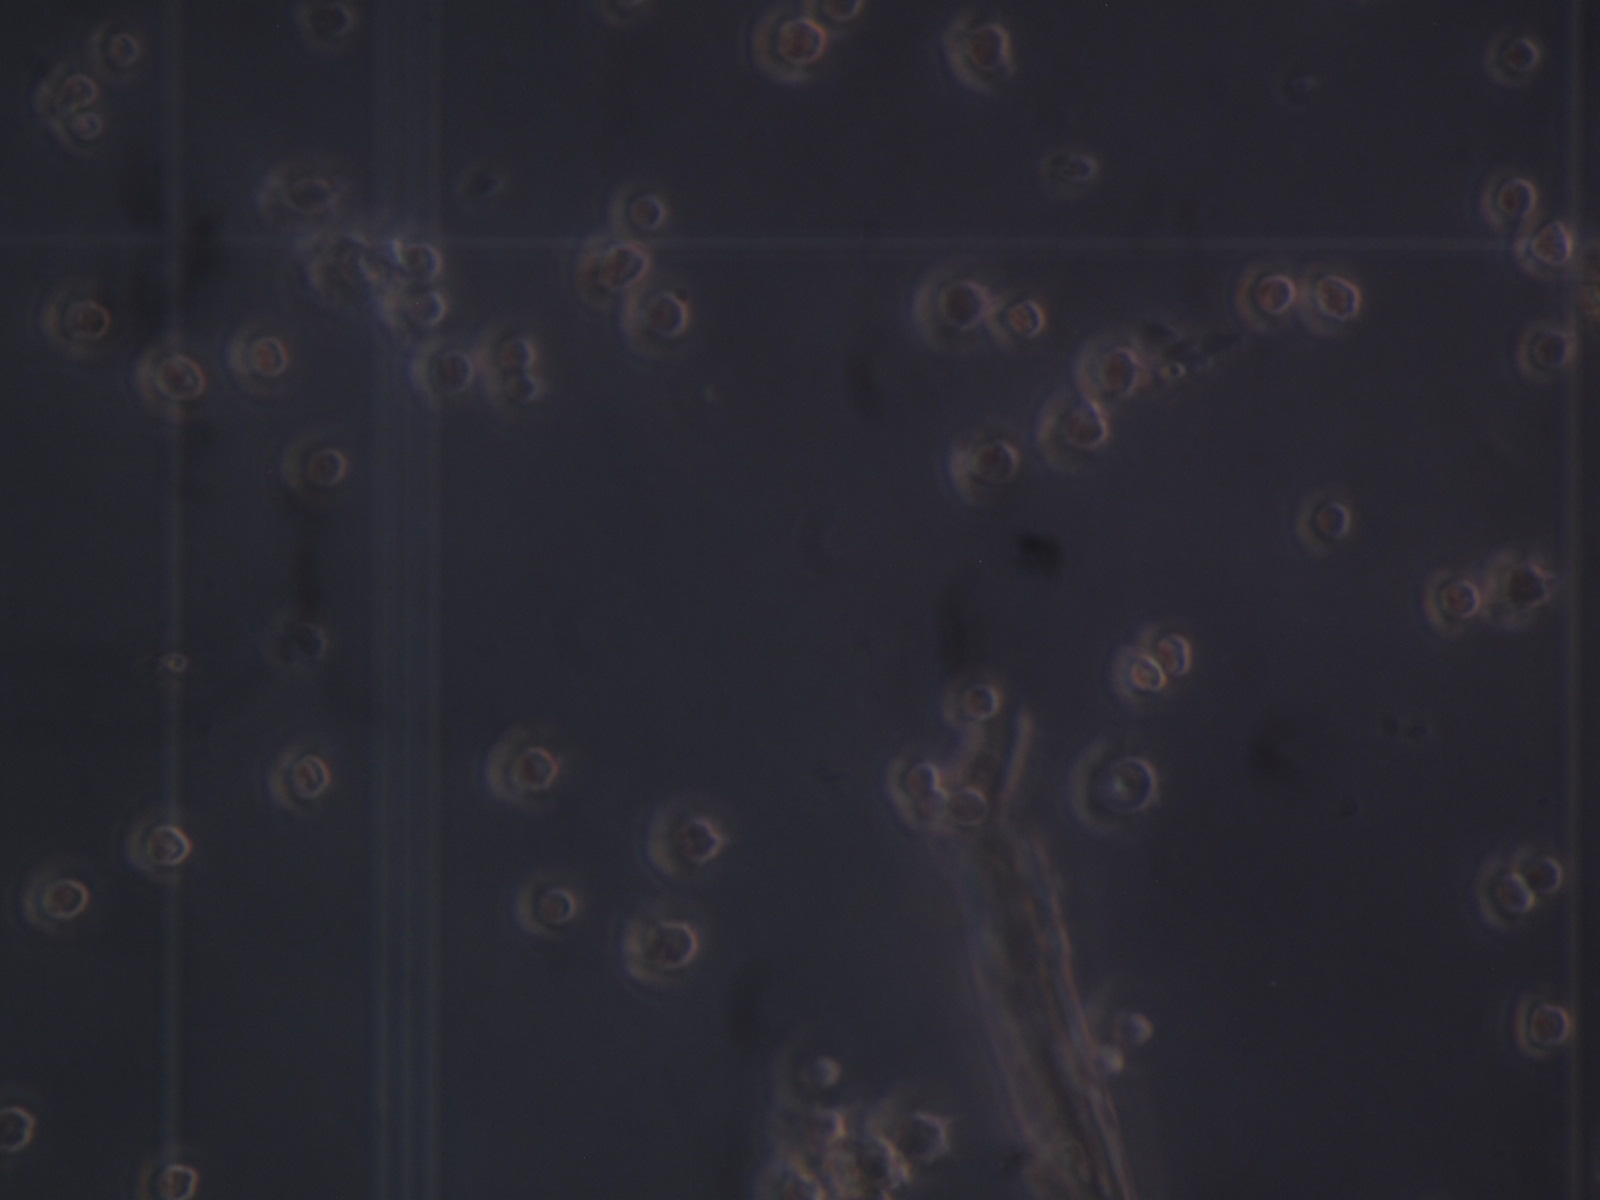hemo: (1072, 737, 1157, 839), (871, 1084, 956, 1170), (746, 6, 826, 87), (621, 904, 697, 989), (913, 266, 986, 350), (1038, 388, 1107, 475), (1078, 981, 1162, 1053), (648, 802, 722, 879), (484, 729, 558, 805), (576, 233, 648, 311), (1483, 548, 1548, 632), (136, 343, 207, 420), (951, 434, 1019, 511), (624, 290, 695, 362), (944, 13, 1008, 89), (258, 164, 339, 224), (1077, 333, 1144, 405), (1474, 856, 1537, 932), (1296, 265, 1359, 339), (123, 818, 191, 884), (1237, 263, 1298, 337), (39, 292, 111, 353), (1512, 992, 1574, 1060), (409, 337, 474, 401), (34, 55, 100, 118), (774, 1035, 843, 1094), (23, 876, 89, 937), (287, 429, 348, 495), (227, 326, 286, 395), (1477, 163, 1537, 228), (268, 747, 329, 813), (1511, 219, 1574, 281), (1294, 490, 1351, 558), (611, 176, 666, 245), (1425, 570, 1480, 637), (986, 287, 1044, 350), (939, 674, 1005, 729), (1111, 647, 1168, 708), (1516, 323, 1574, 382), (267, 615, 329, 671), (1136, 621, 1196, 678), (1485, 32, 1542, 88), (1511, 837, 1563, 897), (297, 1, 354, 57), (517, 886, 574, 939), (888, 747, 940, 805), (480, 324, 537, 374), (140, 1155, 202, 1200), (87, 32, 144, 79), (391, 286, 451, 330), (1042, 147, 1099, 194), (57, 111, 110, 156), (397, 239, 446, 287), (897, 790, 951, 832), (950, 784, 991, 837), (1, 1097, 39, 1155), (765, 1092, 813, 1136), (491, 371, 540, 413), (808, 1100, 849, 1150)
